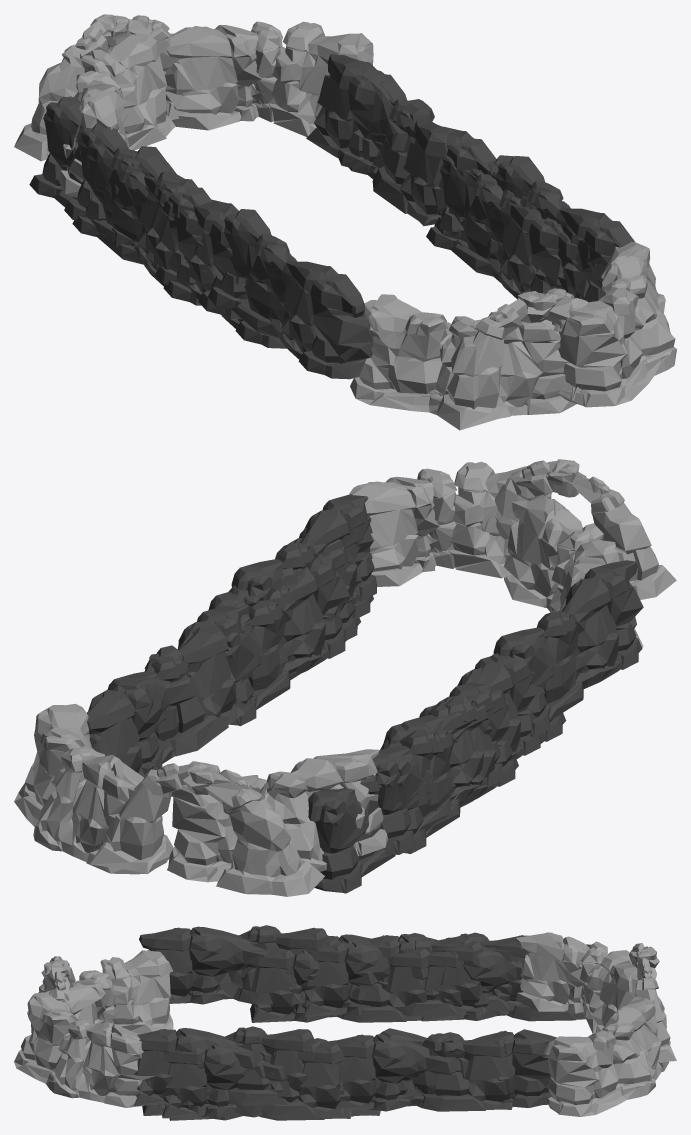
The model's file is rocks4.glb.
3 views of the same model, one above another, from view 1: azimuth 30°, elevation 25°; view 2: azimuth 150°, elevation 25°; view 3: azimuth 270°, elevation 25° (orthographic). The views are drawn at different scales.
Visible parts, largest first — view 1: rockform.corner.soft.light.003, rockform.corner.soft.light.001, rockform.wall.long.dark.003, rockform.corner.soft.light, rockform.wall.long.dark.013, rockform.wall.long.dark.011, rockform.corner.soft.light.002, rockform.arch.light, rockform.wall.long.dark.014, rockform.wall.long.dark.009, rockform.wall.long.dark, rockform.arch.light.001 (+6 smaller); view 2: rockform.arch.light.001, rockform.corner.soft.light, rockform.wall.long.dark.003, rockform.wall.long.dark.013, rockform.corner.soft.light.002, rockform.corner.soft.light.003, rockform.wall.long.dark.011, rockform.corner.soft.light.001, rockform.wall.long.dark.009, rockform.arch.light, rockform.wall.long.dark.014, rockform.wall.long.dark (+6 smaller); view 3: rockform.wall.long.dark.010, rockform.corner.soft.light, rockform.corner.soft.light.003, rockform.wall.long.dark.003, rockform.corner.soft.light.002, rockform.wall.long.dark.006, rockform.wall.long.dark, rockform.wall.long.dark.007, rockform.wall.long.dark.005, rockform.corner.soft.light.001, rockform.wall.long.dark.013, rockform.wall.long.dark.012 (+7 smaller).
Part boxes in pixels (left/top/right/bottom): rockform.corner.soft.light.003: left=165, top=21, right=373, bottom=136; rockform.corner.soft.light.001: left=350, top=294, right=576, bottom=415; rockform.wall.long.dark.003: left=207, top=209, right=373, bottom=379; rockform.corner.soft.light: left=553, top=242, right=676, bottom=407; rockform.wall.long.dark.013: left=306, top=54, right=453, bottom=226; rockform.wall.long.dark.011: left=426, top=155, right=563, bottom=299; rockform.corner.soft.light.002: left=47, top=33, right=175, bottom=197; rockform.arch.light: left=436, top=288, right=588, bottom=430; rockform.wall.long.dark.014: left=72, top=143, right=215, bottom=305; rockform.wall.long.dark.009: left=64, top=122, right=212, bottom=285; rockform.wall.long.dark: left=485, top=156, right=634, bottom=302; rockform.arch.light.001: left=14, top=14, right=188, bottom=161; rockform.arch.light.001: left=90, top=761, right=324, bottom=896; rockform.corner.soft.light: left=349, top=461, right=551, bottom=586; rockform.wall.long.dark.003: left=493, top=560, right=643, bottom=737; rockform.wall.long.dark.013: left=87, top=624, right=244, bottom=776; rockform.corner.soft.light.002: left=167, top=749, right=388, bottom=882; rockform.corner.soft.light.003: left=14, top=703, right=167, bottom=874; rockform.wall.long.dark.011: left=225, top=555, right=350, bottom=726; rockform.corner.soft.light.001: left=504, top=498, right=643, bottom=647; rockform.wall.long.dark.009: left=372, top=682, right=503, bottom=854; rockform.arch.light: left=489, top=459, right=676, bottom=599; rockform.wall.long.dark.014: left=397, top=688, right=518, bottom=853; rockform.wall.long.dark: left=231, top=494, right=376, bottom=664; rockform.wall.long.dark.010: left=324, top=1032, right=512, bottom=1111; rockform.corner.soft.light: left=14, top=990, right=154, bottom=1107; rockform.corner.soft.light.003: left=544, top=996, right=669, bottom=1116; rockform.wall.long.dark.003: left=139, top=925, right=328, bottom=1004; rockform.corner.soft.light.002: left=515, top=932, right=666, bottom=1033; rockform.wall.long.dark.006: left=162, top=1041, right=345, bottom=1118; rockform.wall.long.dark: left=133, top=1026, right=314, bottom=1105; rockform.wall.long.dark.007: left=242, top=948, right=429, bottom=1022; rockform.wall.long.dark.005: left=302, top=937, right=485, bottom=1016; rockform.corner.soft.light.001: left=67, top=950, right=173, bottom=1034; rockform.wall.long.dark.013: left=380, top=1028, right=556, bottom=1107; rockform.wall.long.dark.012: left=421, top=944, right=590, bottom=1021.
Size of the model in its own units: 65.67 by 22.6 by 144.
2 materials, 2 textured.
